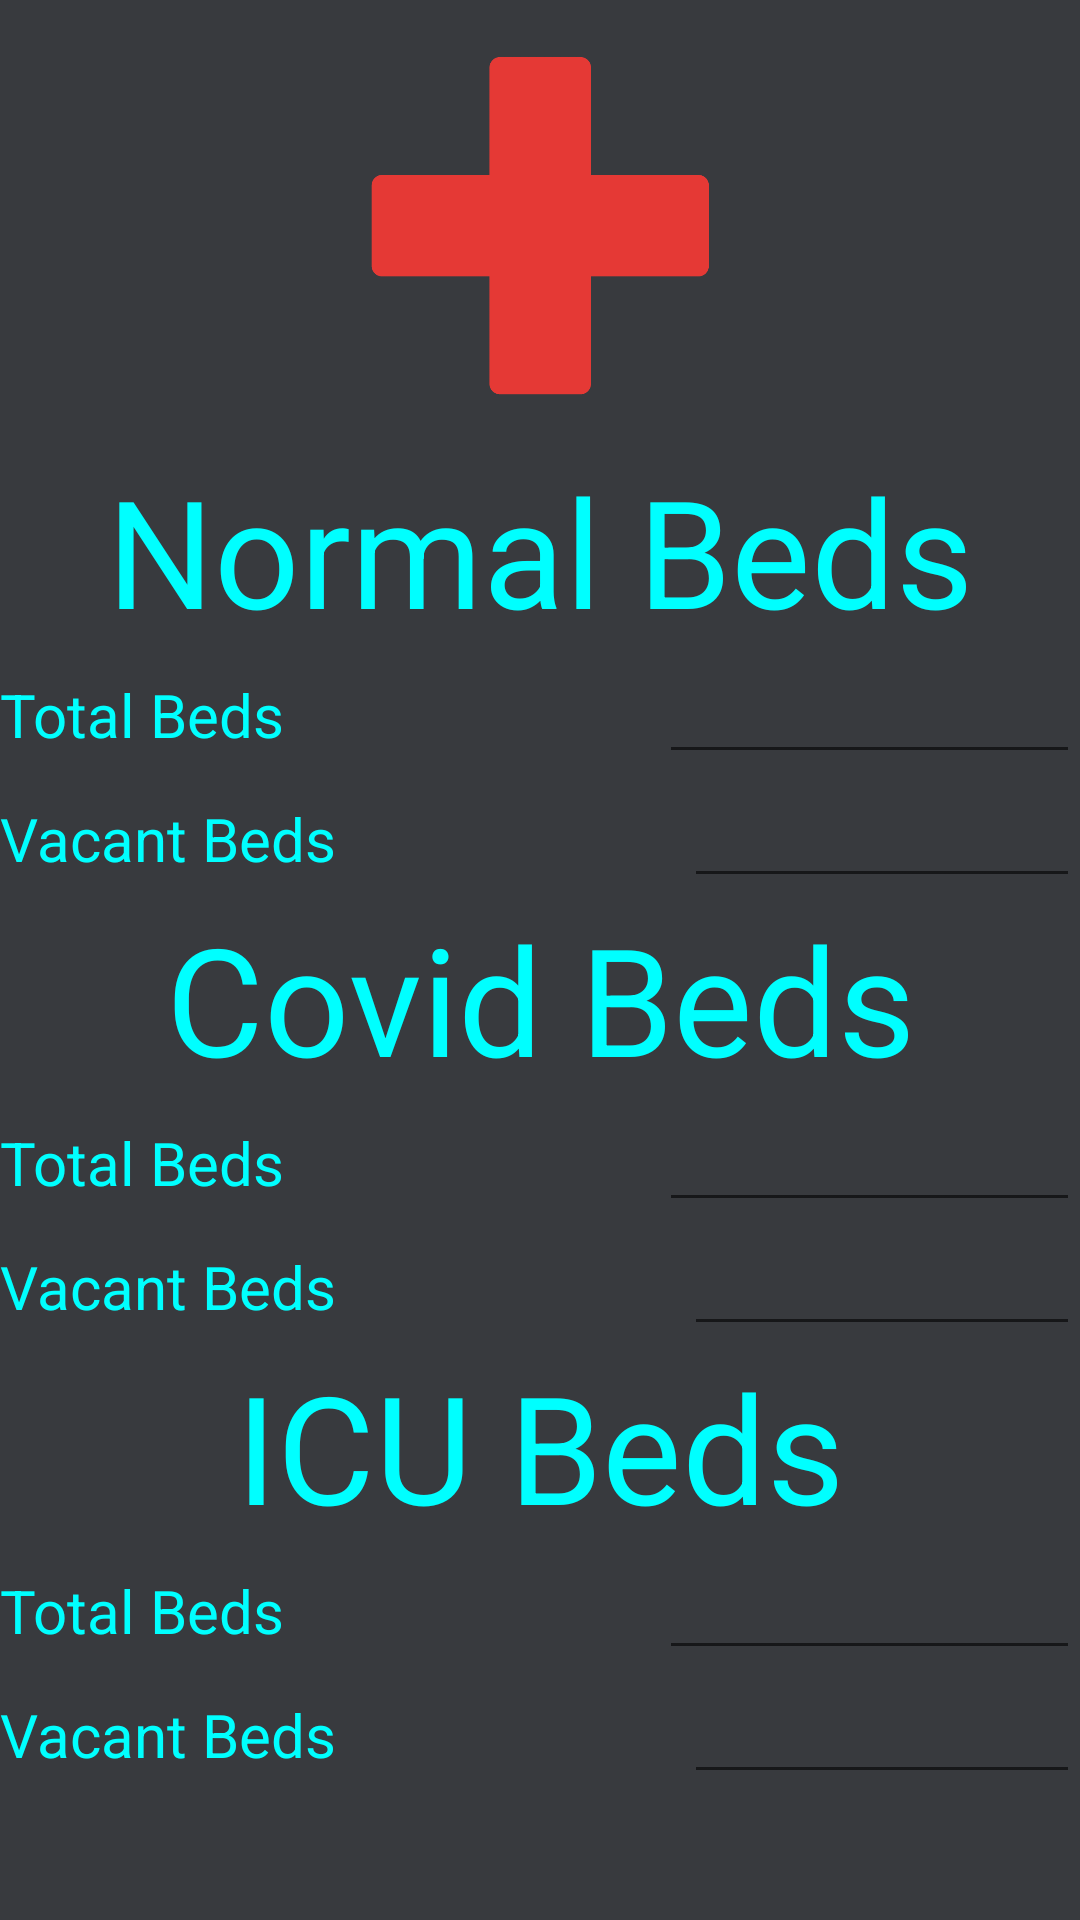

Locate icon controls on the screen. Image size 1080px x 1920px, boxes as (left=x1, top=y1, right=x2, bottom=y2).
hospital: (left=371, top=57, right=709, bottom=395)
